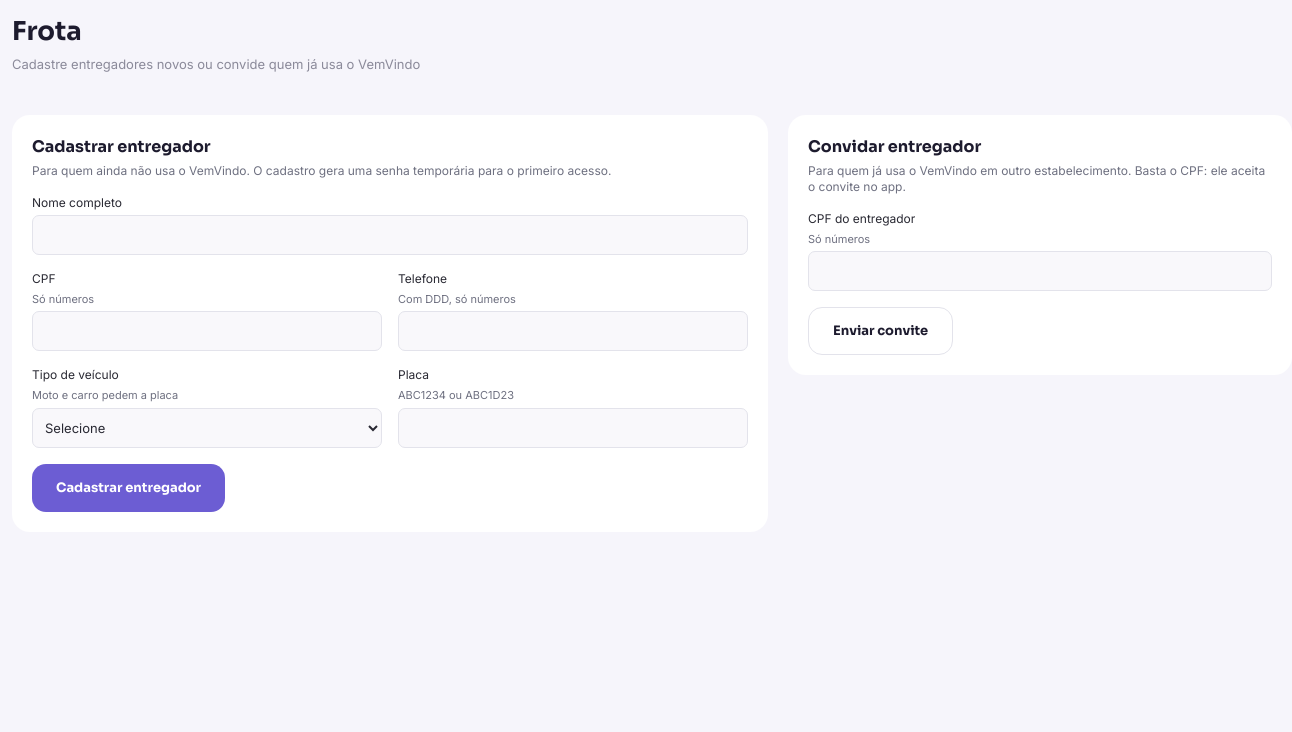
Test: PaginaFrota › com CPF ja cadastrado, leva o CPF para o convite
Type "Joana Lima" into the field labelled "Nome completo".
click(390, 234); type("Joana Lima")  # box [32, 214, 748, 254]
Type "529.982.247-25" into the field labelled "CPF".
click(207, 331); type("529.982.247-25")  # box [32, 311, 382, 351]
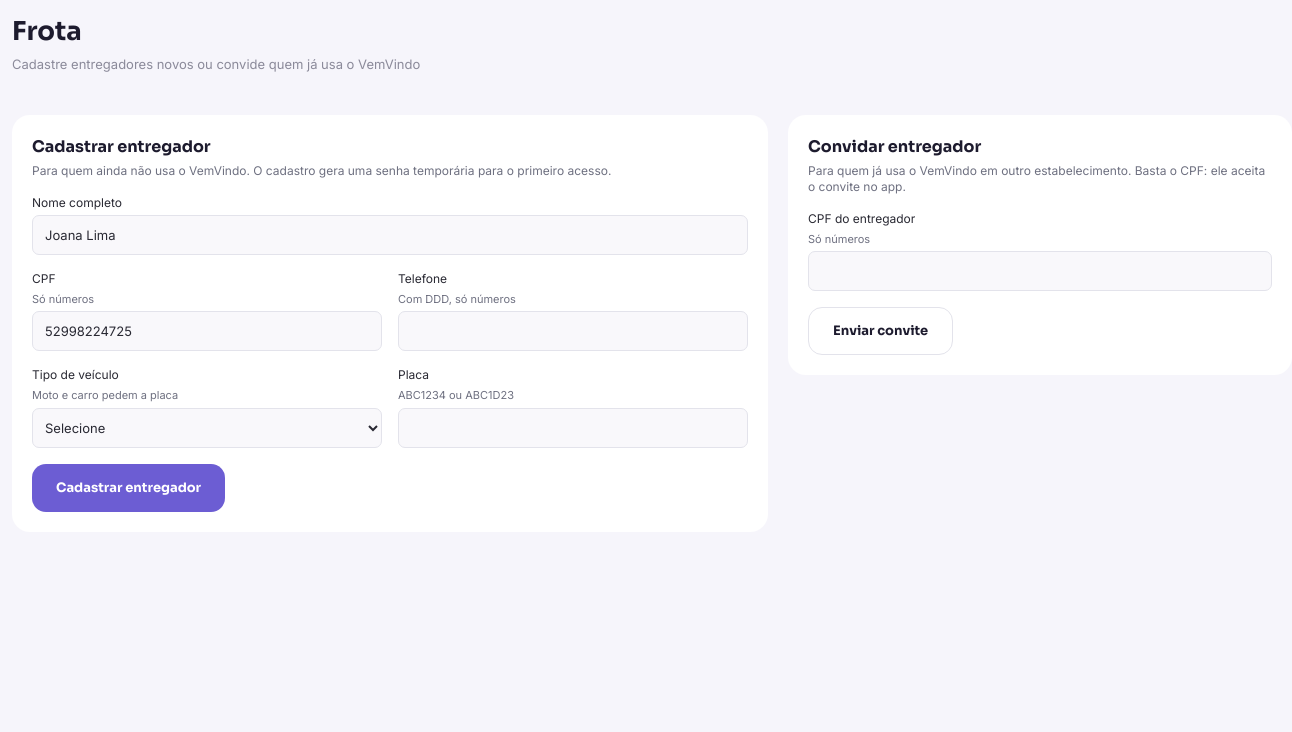
Type "(61) 98888-7777" into the field labelled "Telefone".
click(573, 331); type("(61) 98888-7777")  # box [398, 311, 748, 351]
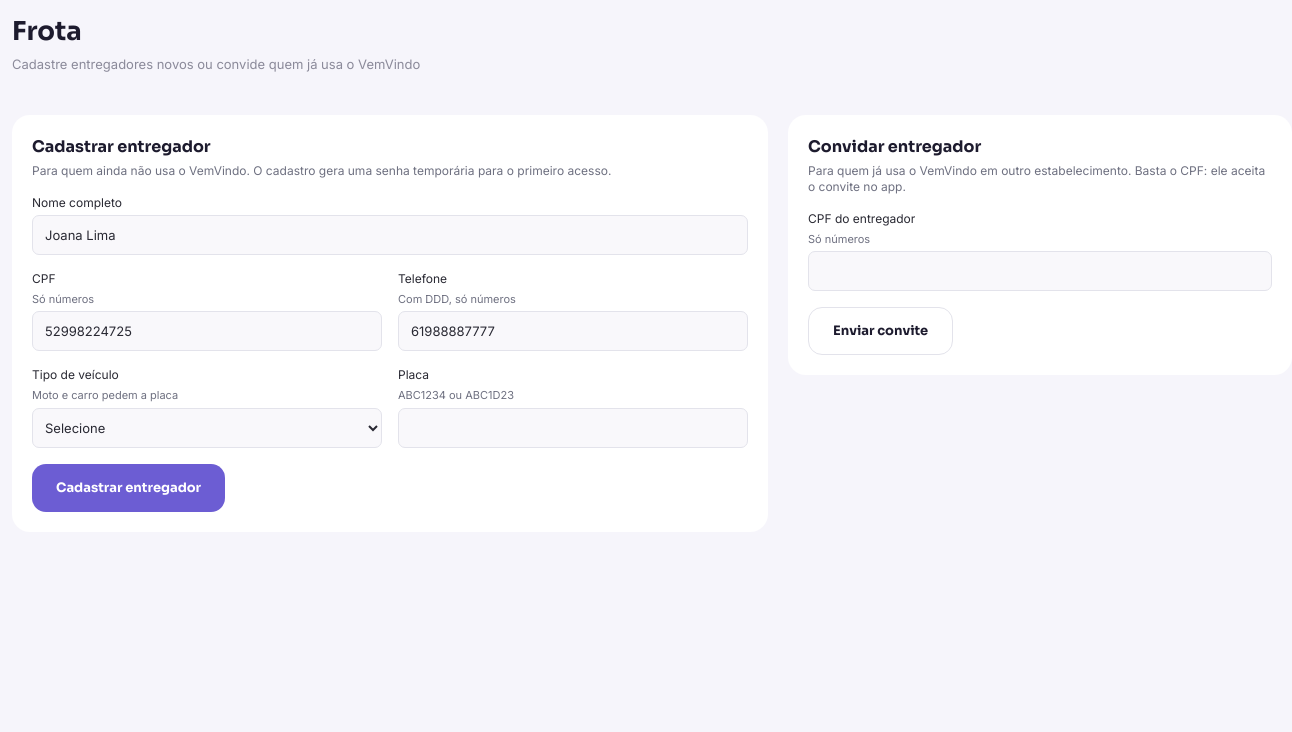
Select "Moto" in the dropdown labelled "Tipo de veículo" at (207, 428), box [32, 408, 382, 448]
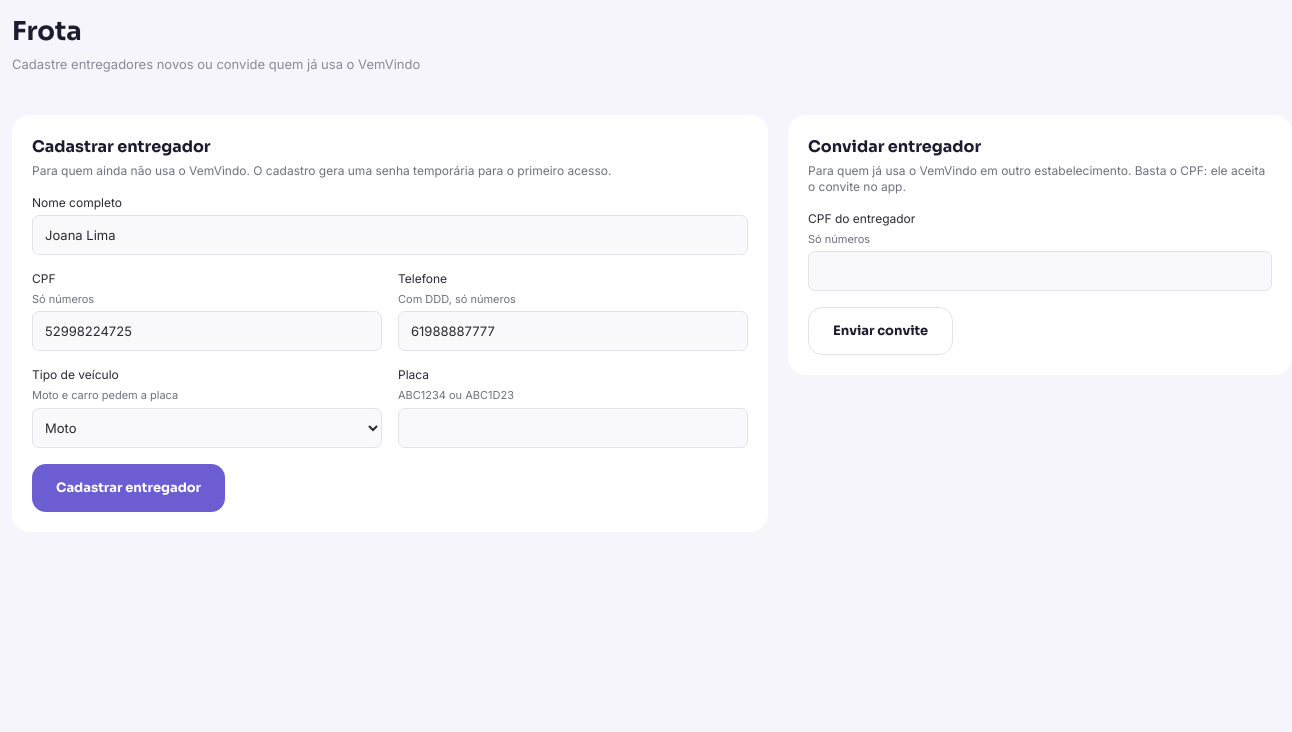
Type "abc-1d23" into the field labelled "Placa".
click(573, 428); type("abc-1d23")  # box [398, 408, 748, 448]
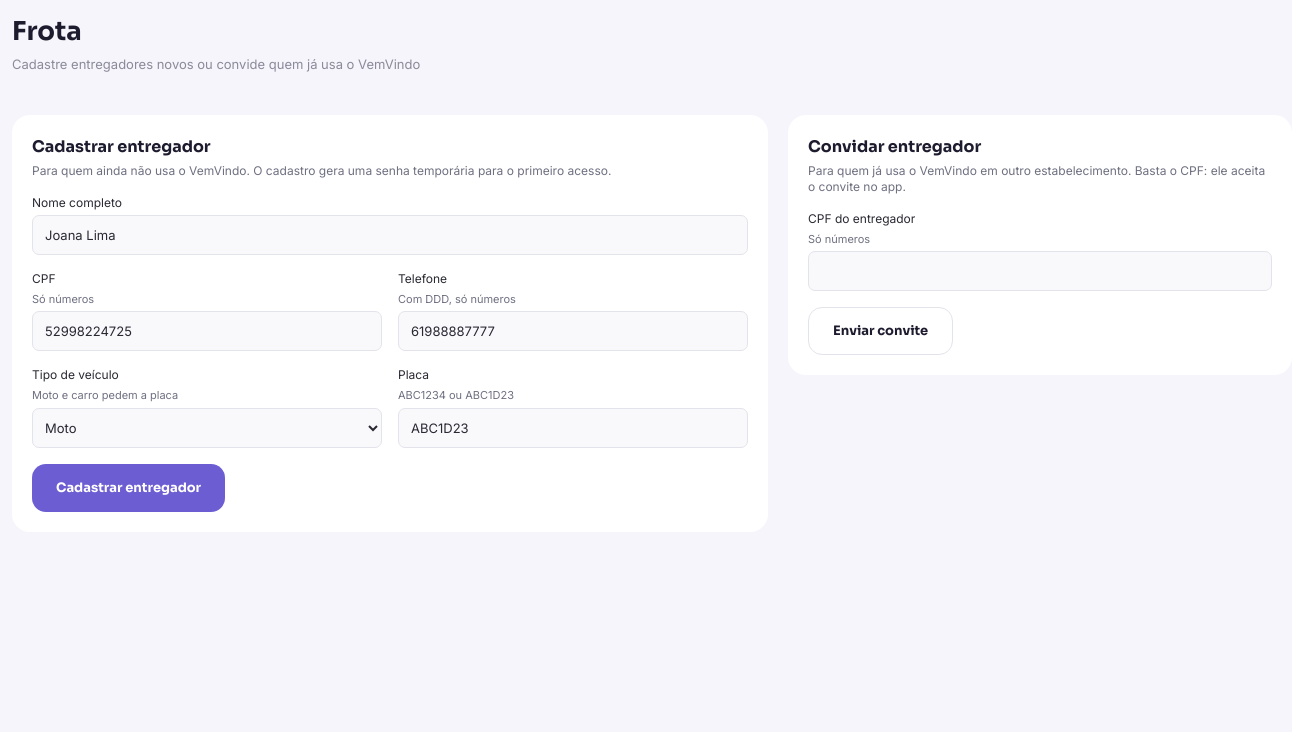
Click the button "Cadastrar entregador".
click(129, 488)  # box [32, 464, 225, 512]
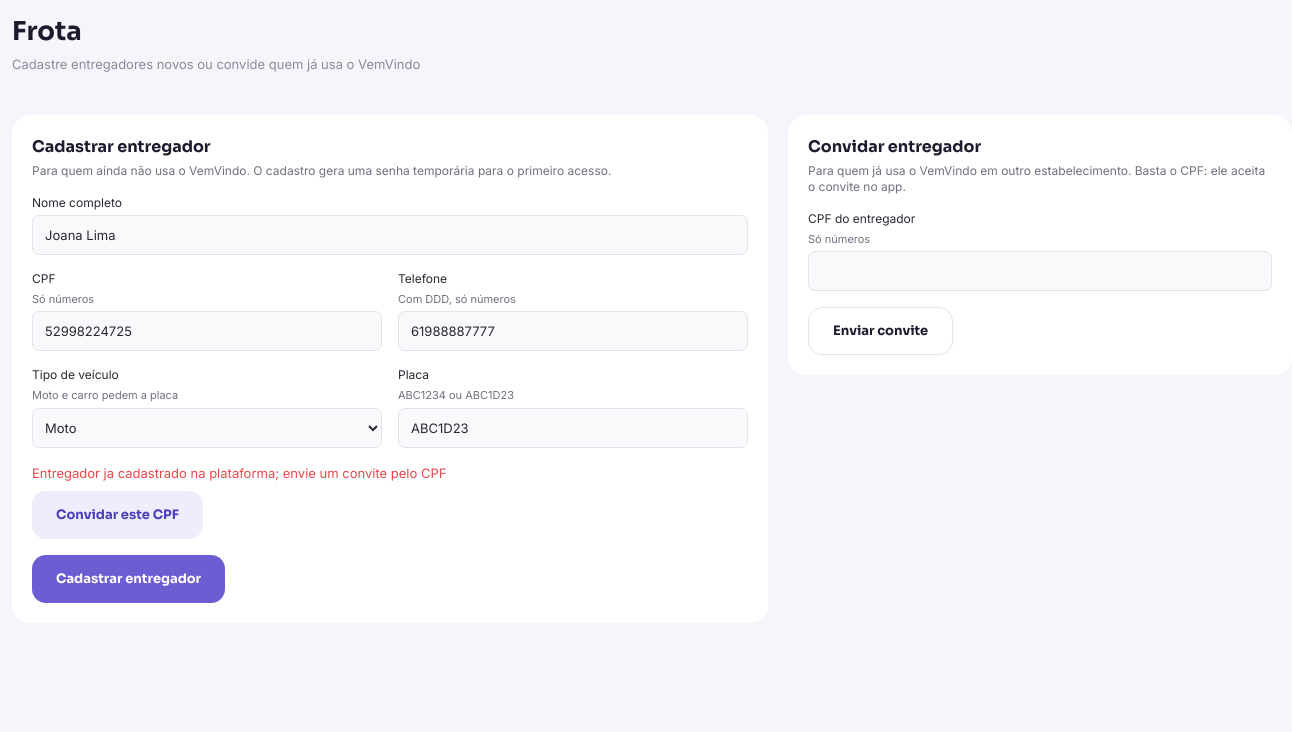
Click the button "Convidar este CPF".
click(118, 515)  # box [32, 491, 203, 539]
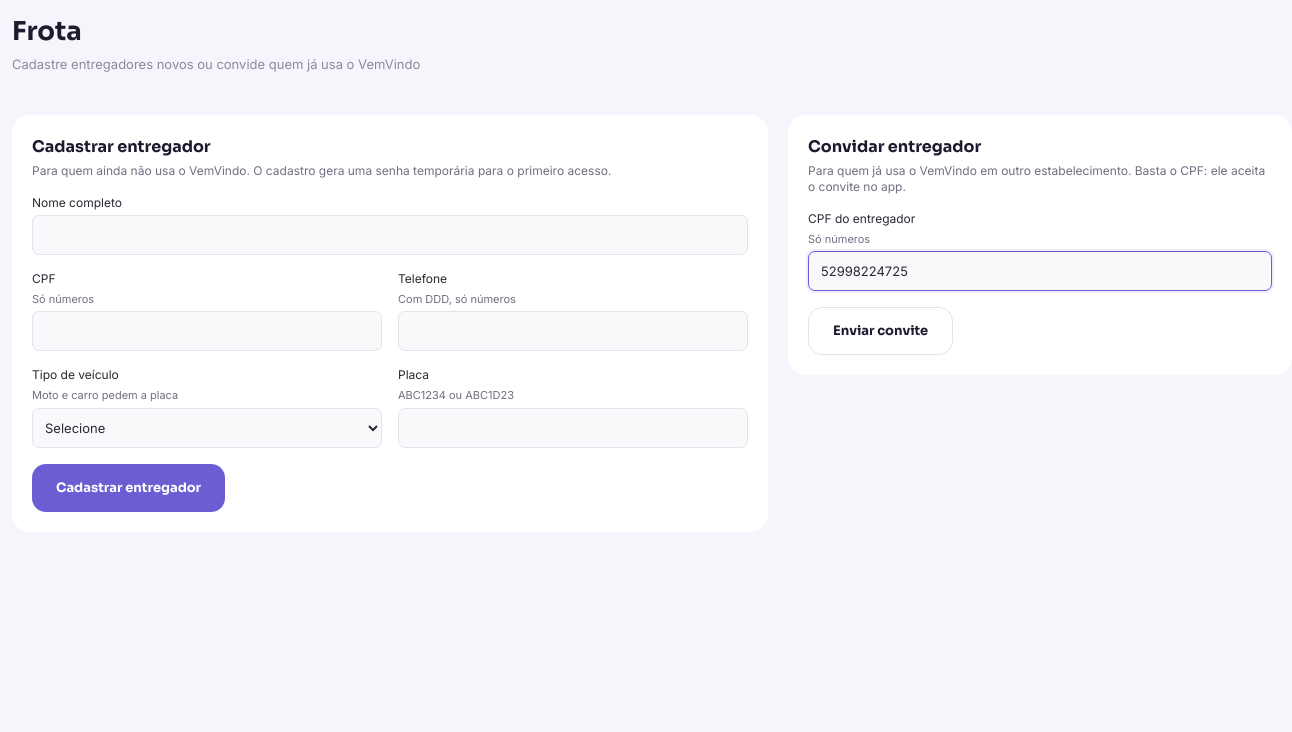
expect the field labelled "CPF do entregador" holds "52998224725": met, box [808, 251, 1272, 291]
expect the field labelled "CPF" is empty: met, box [32, 311, 382, 351]
expect the message "Entregador ja cadastrado na plataforma; envie um convite pelo CPF Convidar este" is gone: met
